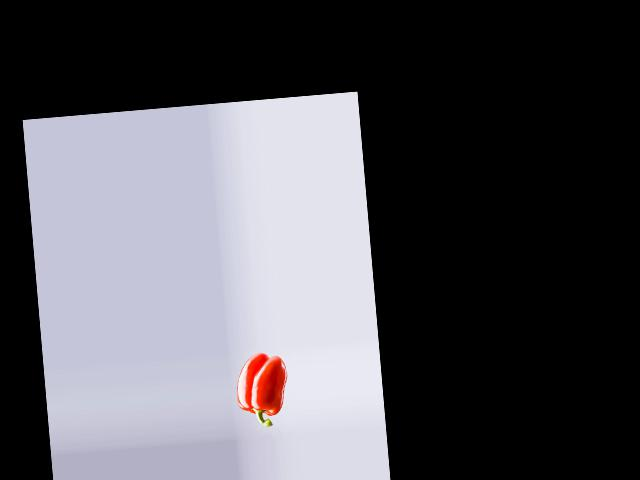bell_pepper: (231, 353, 292, 430)
